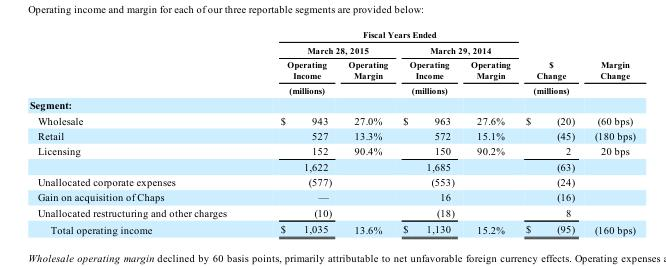table: (28, 29, 635, 234)
table column: (28, 29, 252, 234), (252, 29, 339, 234), (394, 29, 462, 234), (517, 29, 584, 234), (339, 29, 394, 234), (462, 29, 517, 234), (584, 29, 635, 234)
table column header: (28, 29, 635, 97)
table projected row header: (28, 97, 635, 112)
table row: (28, 57, 635, 97), (28, 142, 635, 158), (28, 158, 635, 174), (28, 204, 635, 220), (28, 42, 635, 57), (28, 97, 635, 112), (28, 112, 635, 127), (28, 127, 635, 142), (28, 174, 635, 189), (28, 189, 635, 204), (28, 220, 635, 234), (28, 29, 635, 42)
table spanning cell: (517, 29, 584, 97), (584, 29, 635, 97), (252, 29, 517, 42), (252, 42, 394, 57), (394, 42, 517, 57)
